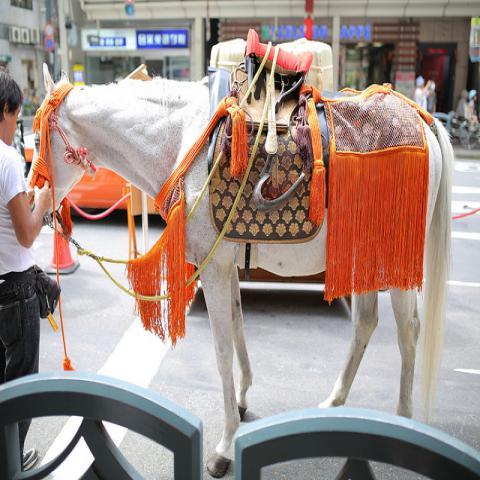car: (22, 132, 128, 216)
